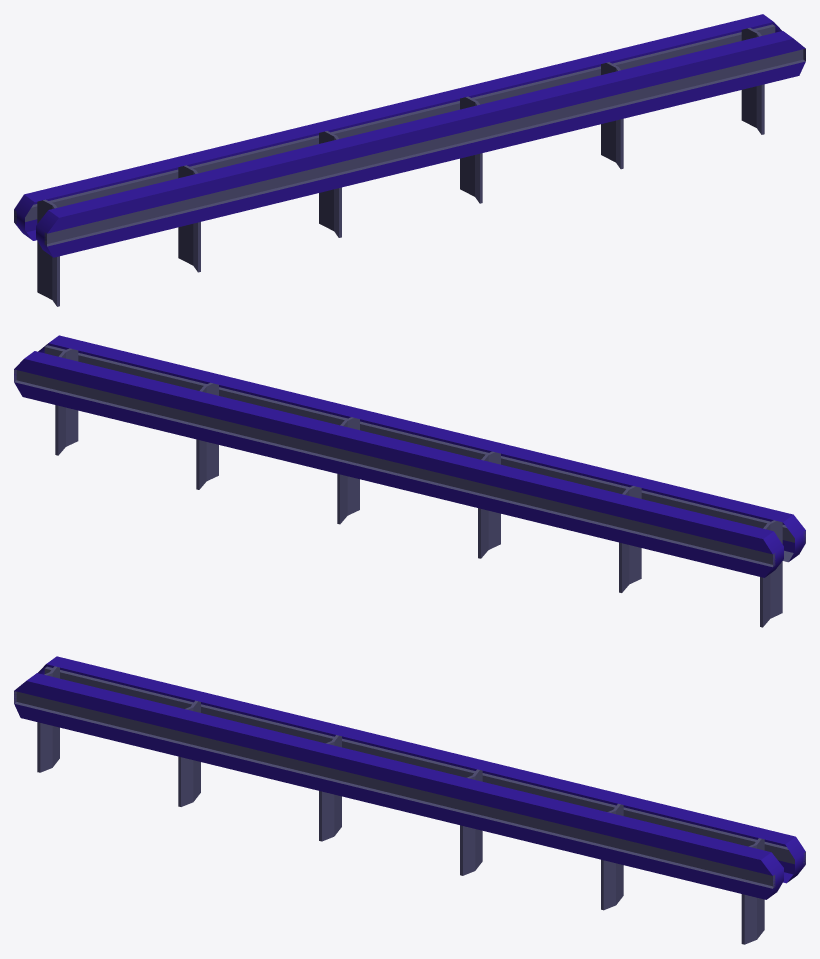
The model's file is siderail.fbx.
3 renders of one model, top to bottom at view 1: azimuth 30°, elevation 25°; view 2: azimuth 150°, elevation 25°; view 3: azimuth 330°, elevation 25°, orthographic.
Parts seen in each view (by area): view 1: Cube.001, Cube; view 2: Cube.001, Cube; view 3: Cube.001, Cube.
Boxes of the visible parts, <box> form: Cube.001: <box>14,14,805,257</box>; Cube: <box>37,28,764,306</box>; Cube.001: <box>14,335,805,577</box>; Cube: <box>55,348,782,627</box>; Cube.001: <box>14,656,805,899</box>; Cube: <box>37,666,764,944</box>.
Bounding box in the file's own units: 310 × 37.2 × 23.42.
